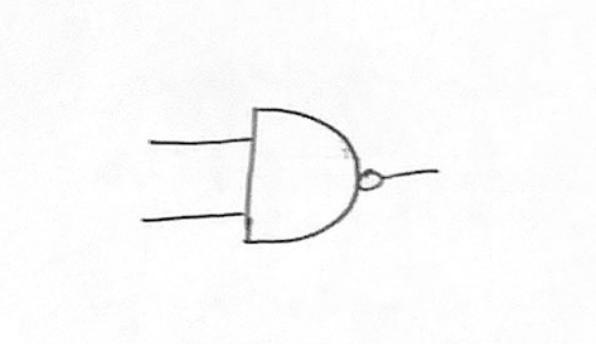NAND: (235, 89, 400, 273)
